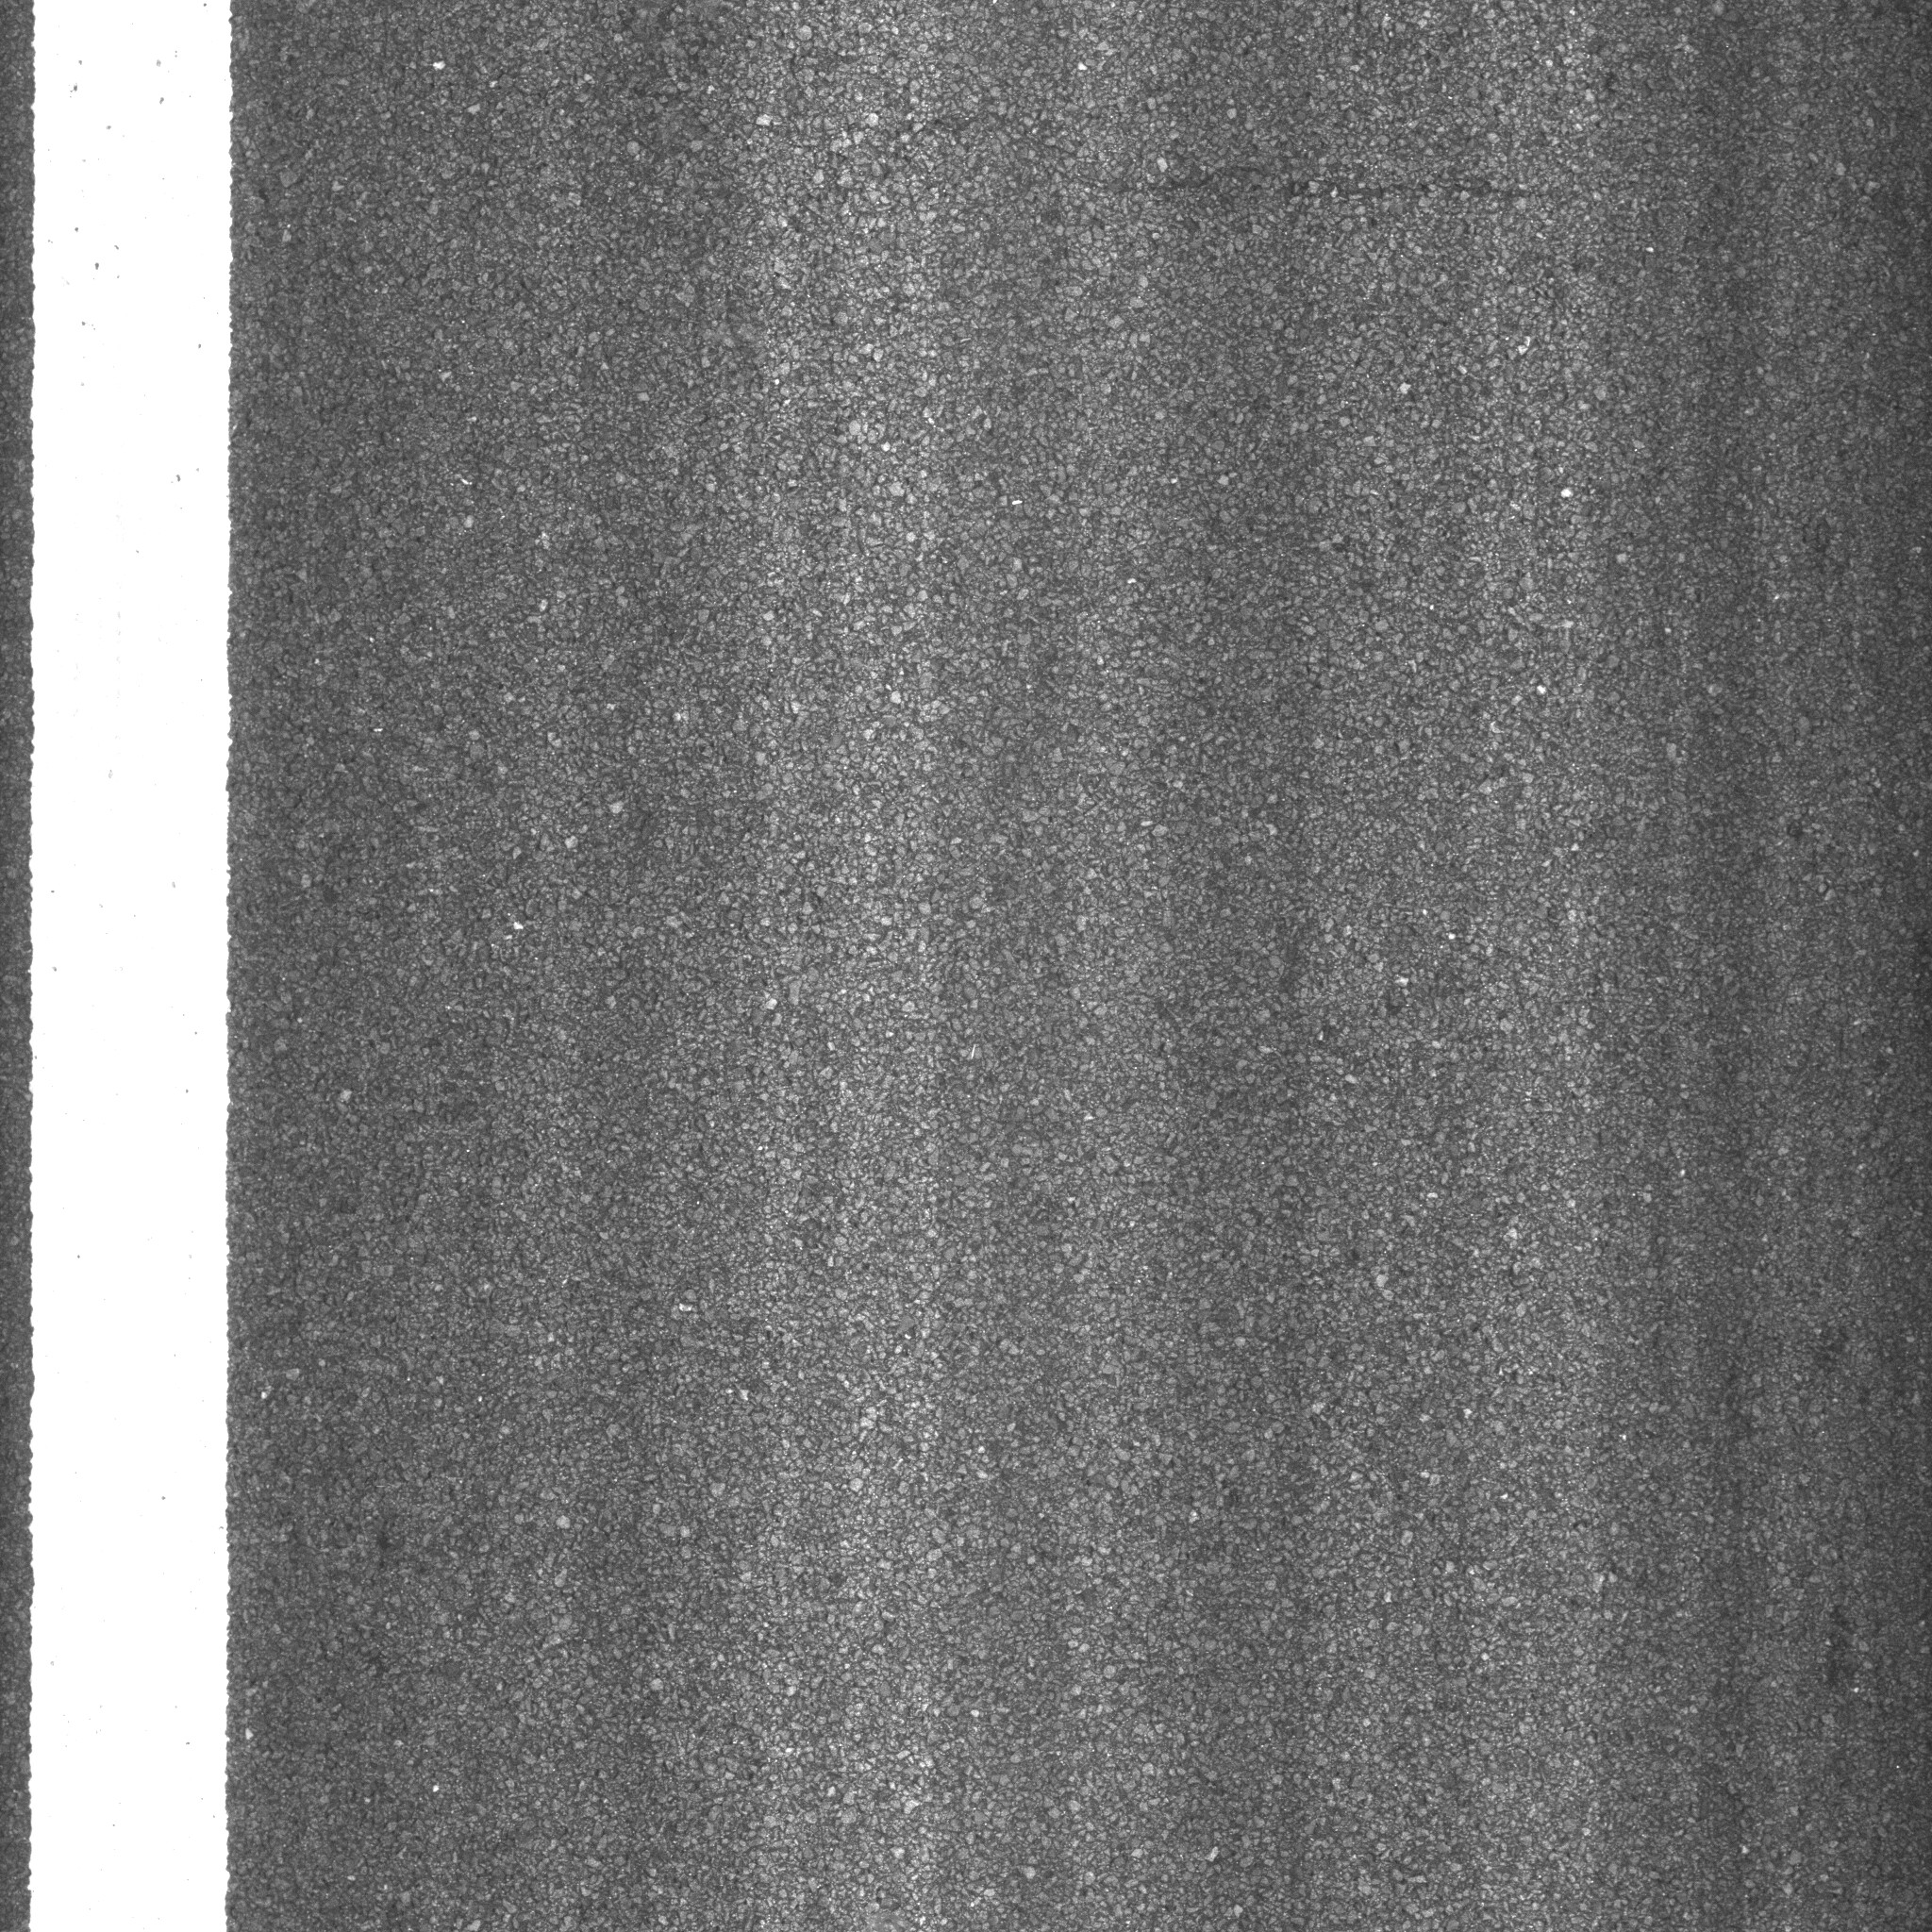transverse: (706, 55, 1707, 311)
